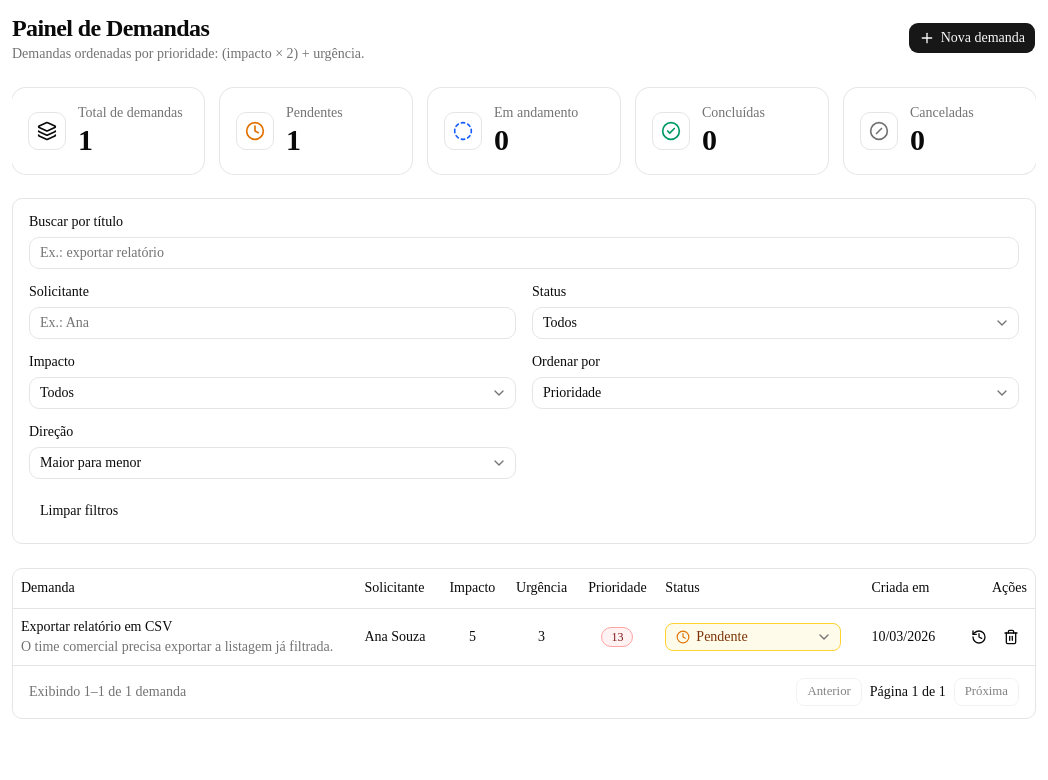
Test case: DemandsPanel › move a contagem do resumo antes da resposta do servidor
The width and height of the screenshot is (1048, 780).
Expected: the text "1" below "Pendentes" is shown, [286, 122, 301, 156]
Click the dropdown named "Alterar status" at (753, 637), box [665, 623, 841, 651]
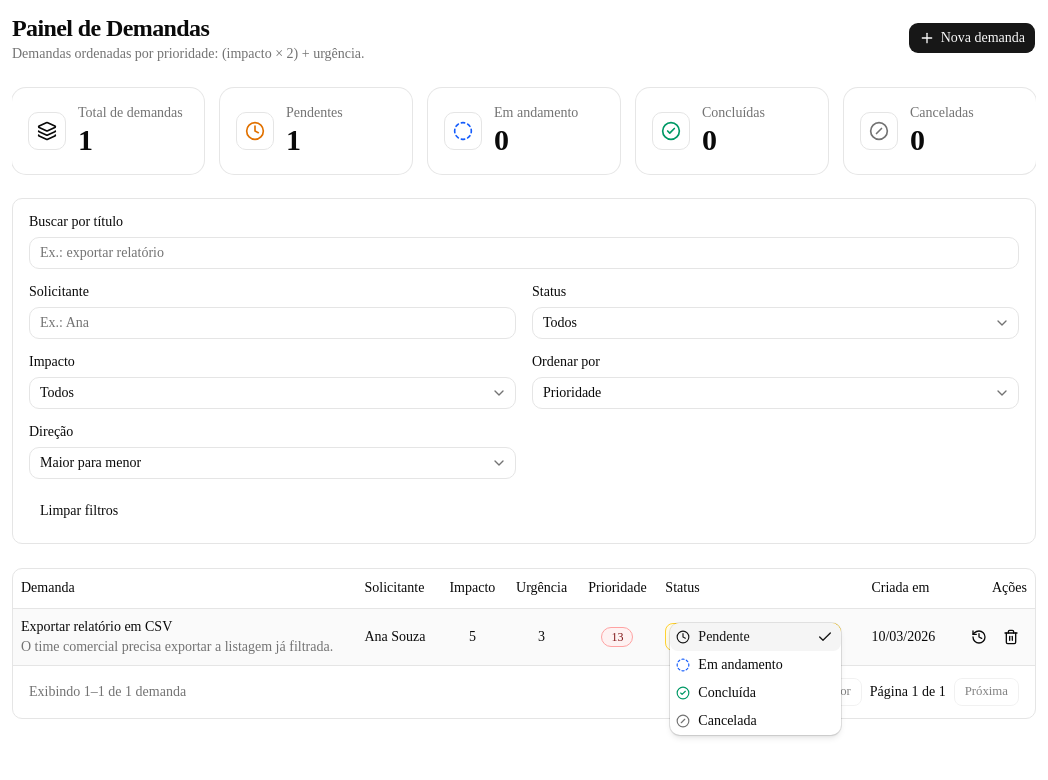
Click the option "Em andamento" at (730, 664), box [676, 657, 783, 672]
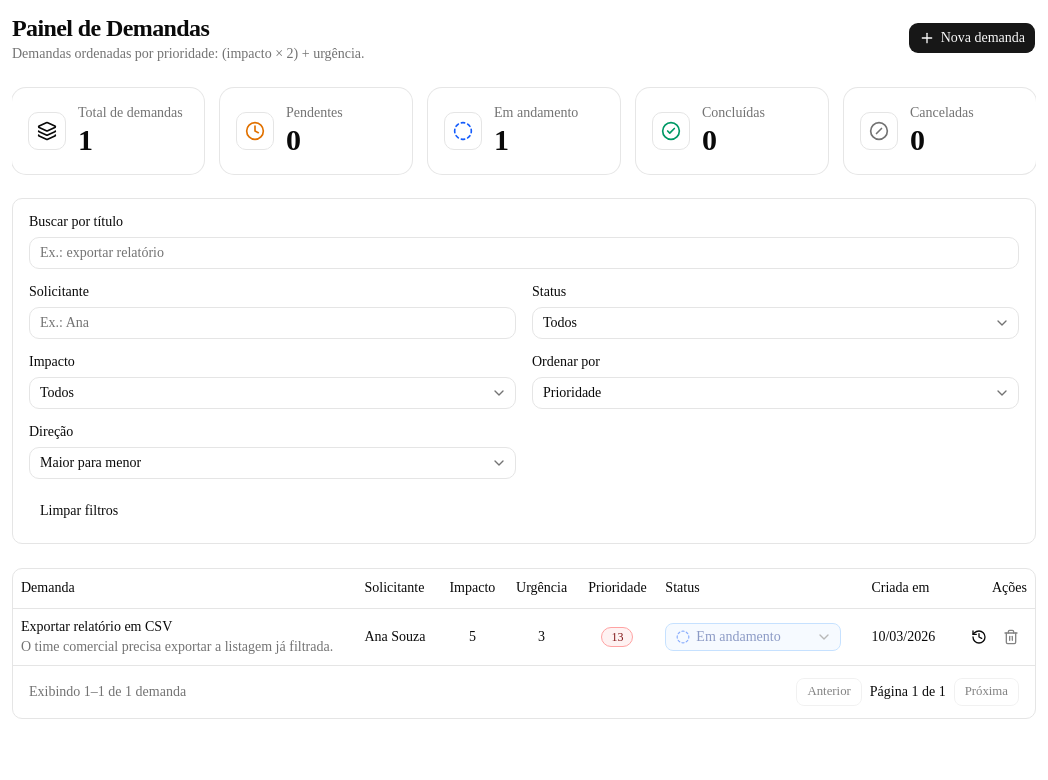
Expected: the text "0" below "Pendentes" is shown, [286, 122, 301, 156]
